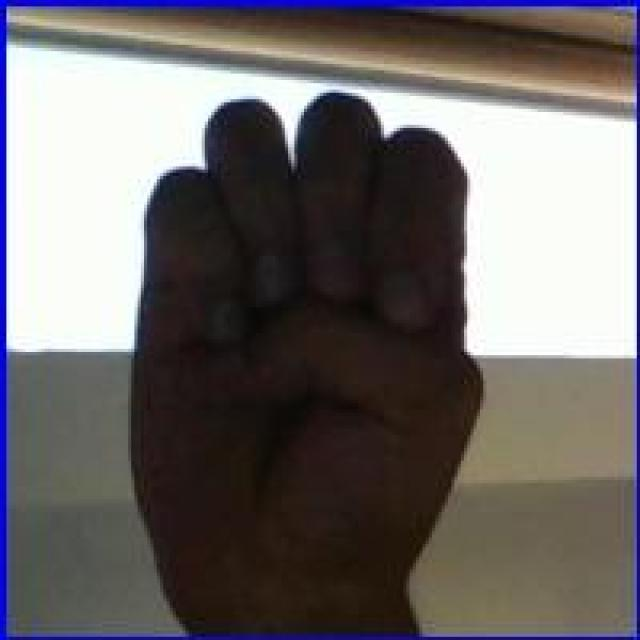E: (120, 93, 501, 630)
